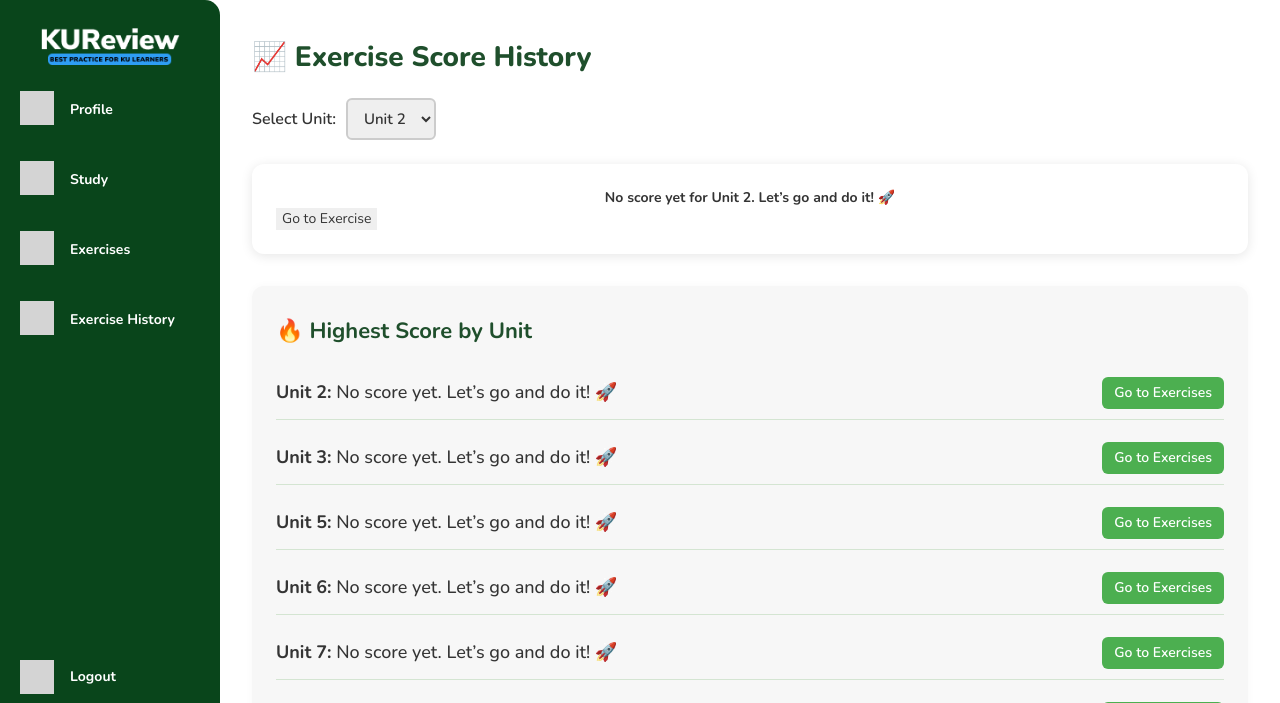
Test case: Score History Page – Unit Score Visualization and Navigation › should switch to another unit and show chart or fallback
The image size is (1280, 703).
Step 1. Select "Unit 3" in the dropdown → (391, 119), box [346,98,436,140]
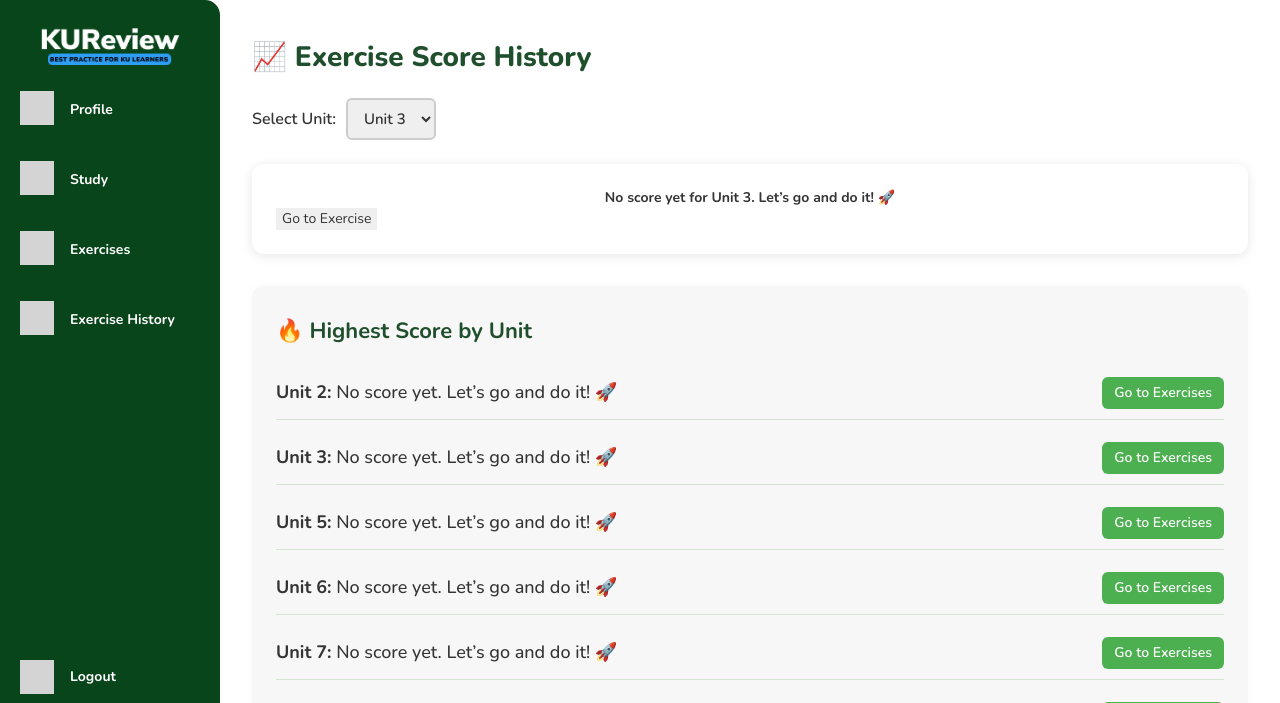
Expected: the button "Go to Exercise" is shown, [276,208,377,230]
Expected: the text "No score yet for Unit 3" is shown, [605,188,895,207]
